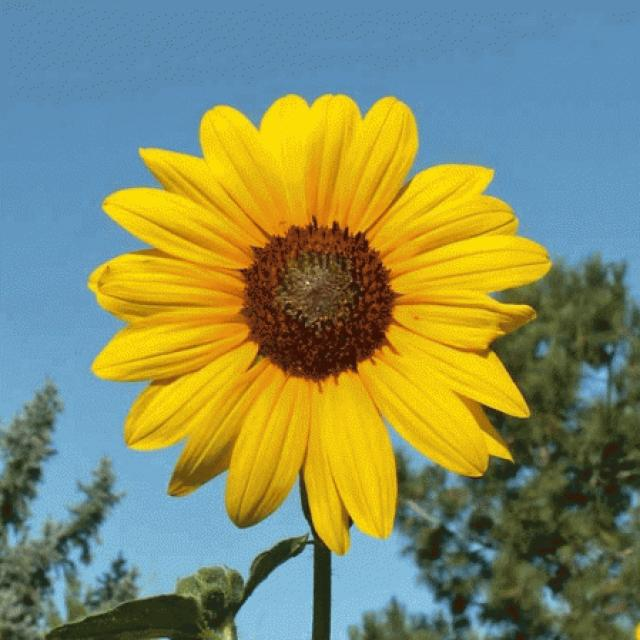sunflower: (84, 90, 572, 551)
